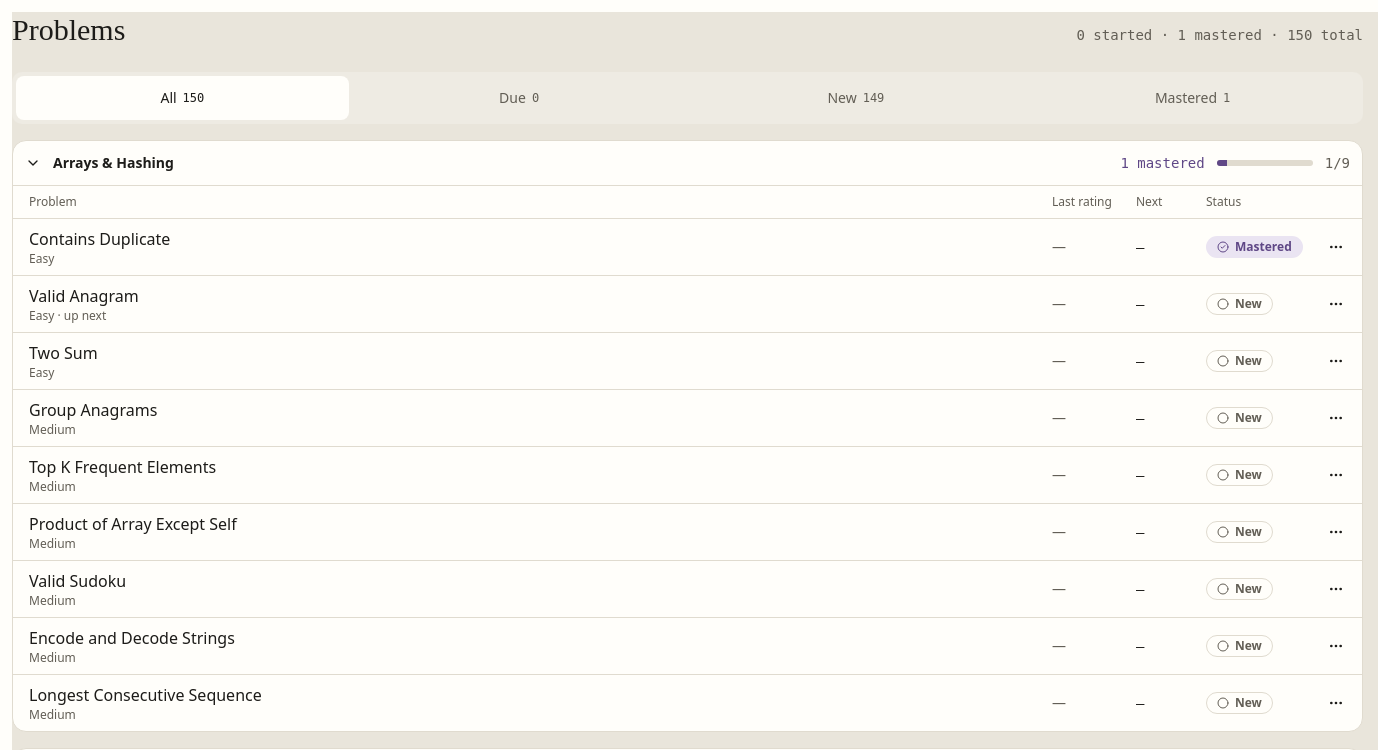
it: ProblemsPage › doesn't offer to mark a mastered problem as mastered again
Click the button named "Actions for Contains Duplicate" in the row of "Contains Duplicate" at (1336, 247), box [1314, 225, 1358, 269]
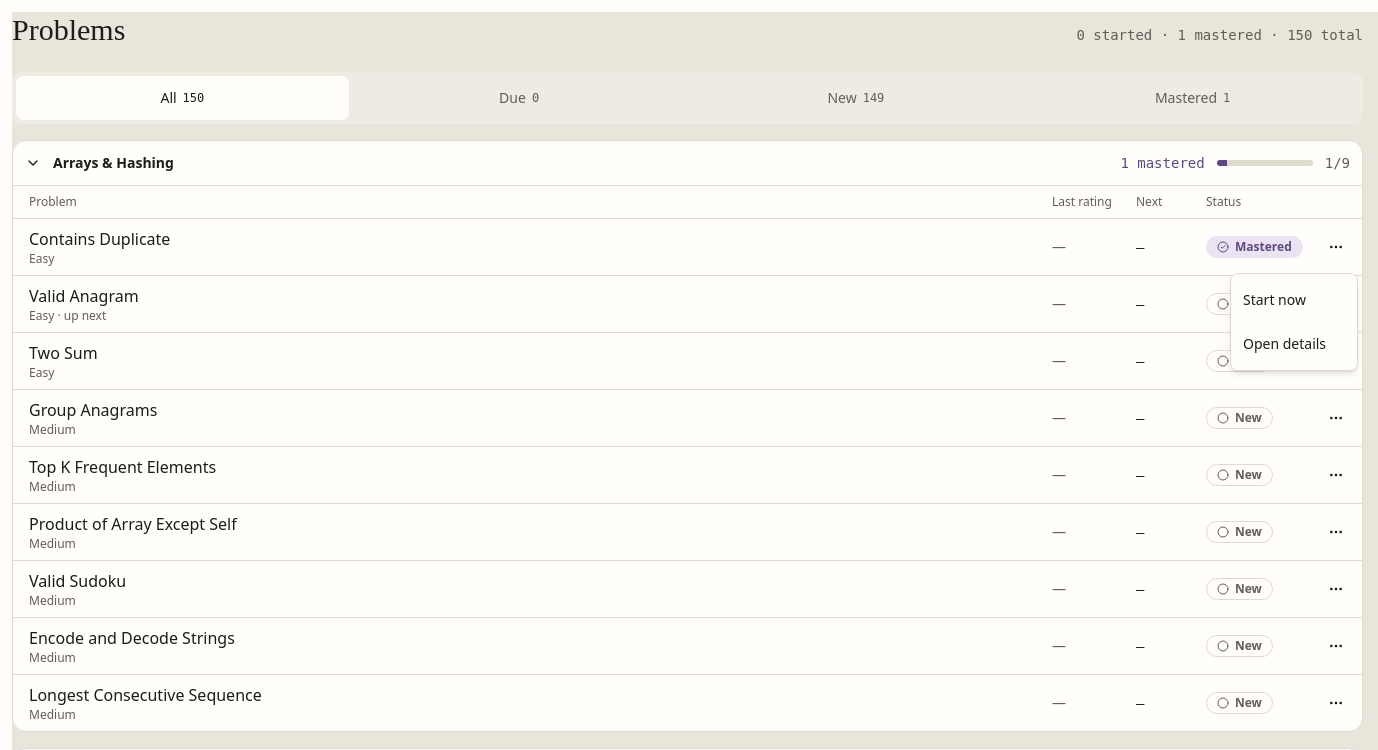
Result: the menu item "Start now" is shown at [1243, 290, 1306, 309]
